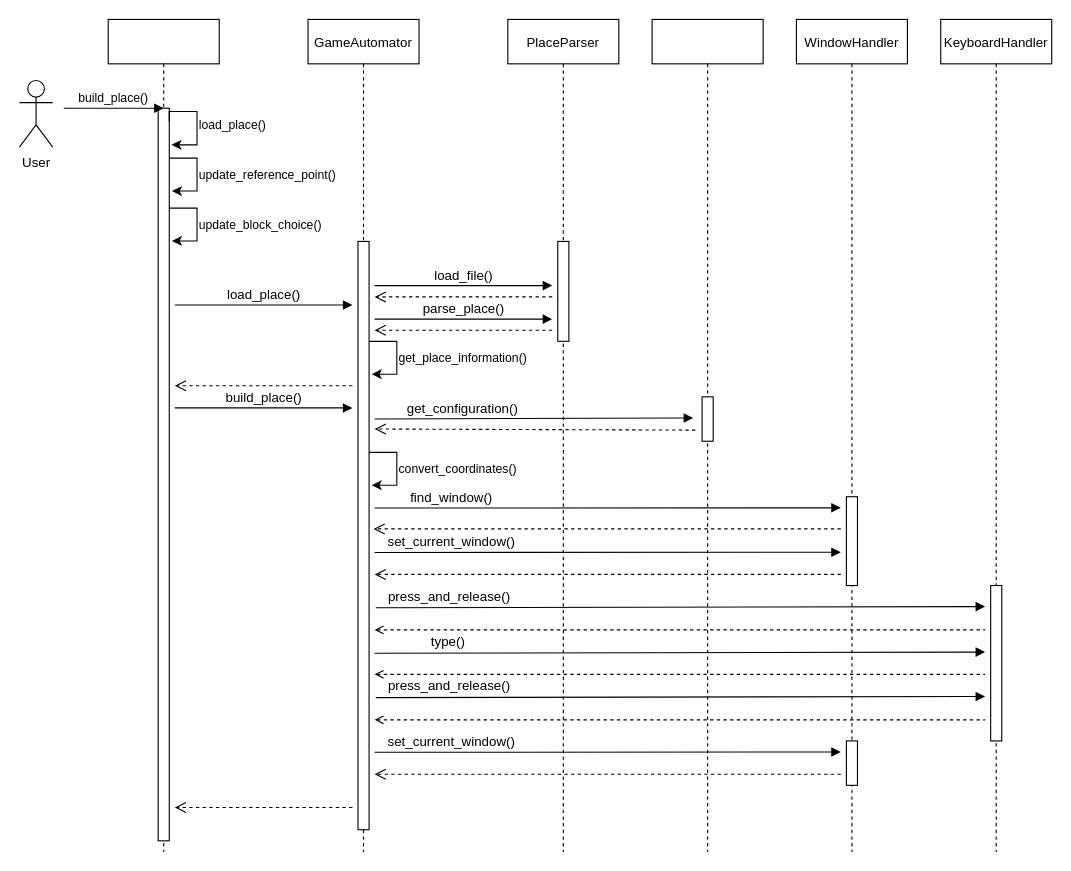
The diagram is 1071 pixels wide and 871 high, and some of its shapes have lost their labels. Here are the shapes that lost their labels. From the top down, the box of each, then its label:
(107, 18, 219, 852): HomeScreen
(651, 18, 763, 852): Configurator
